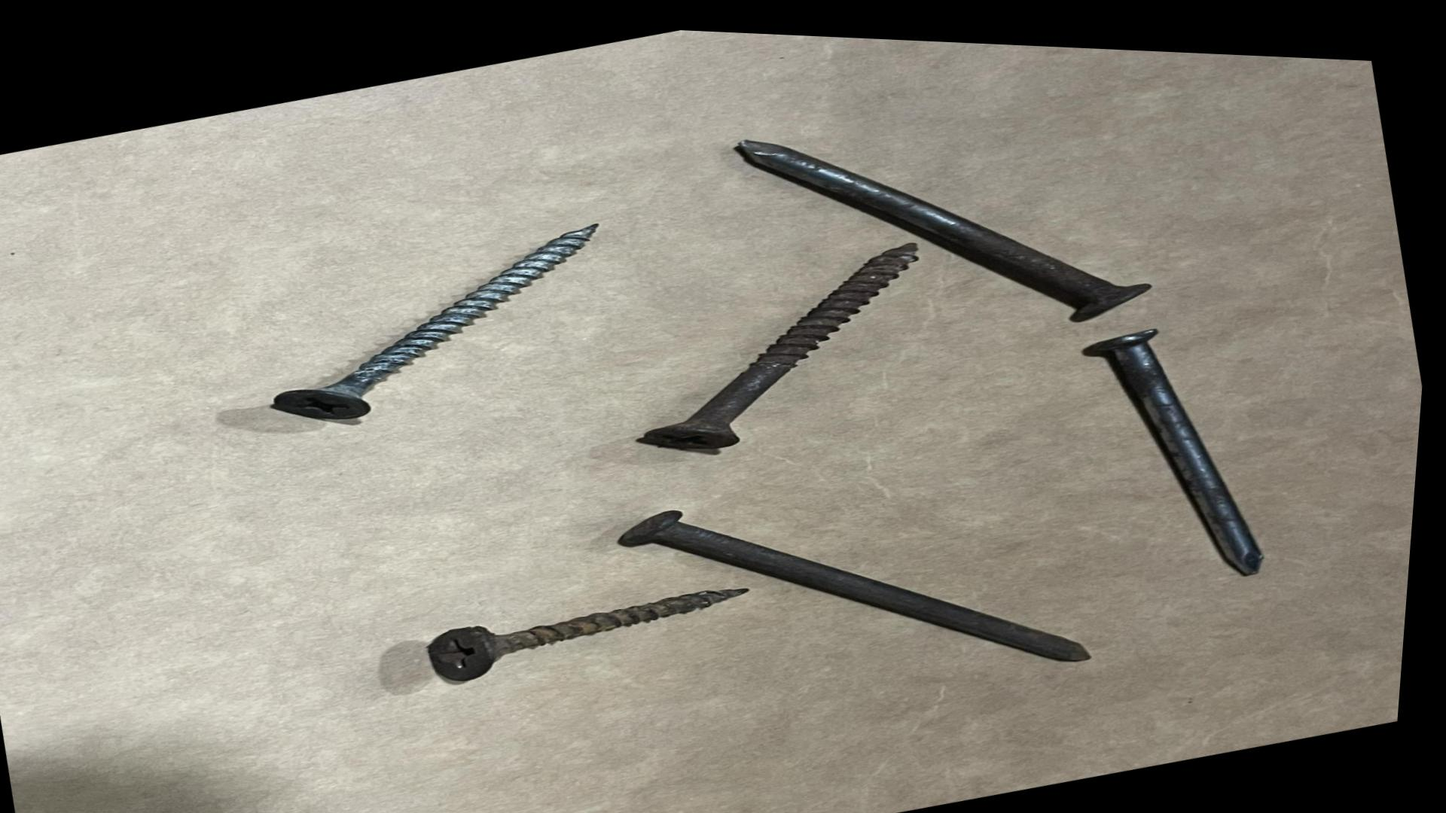nail: (685, 35, 1201, 397), (601, 405, 1131, 755), (1043, 272, 1373, 614)
screw: (233, 188, 660, 450), (590, 213, 980, 477), (410, 547, 787, 709)
